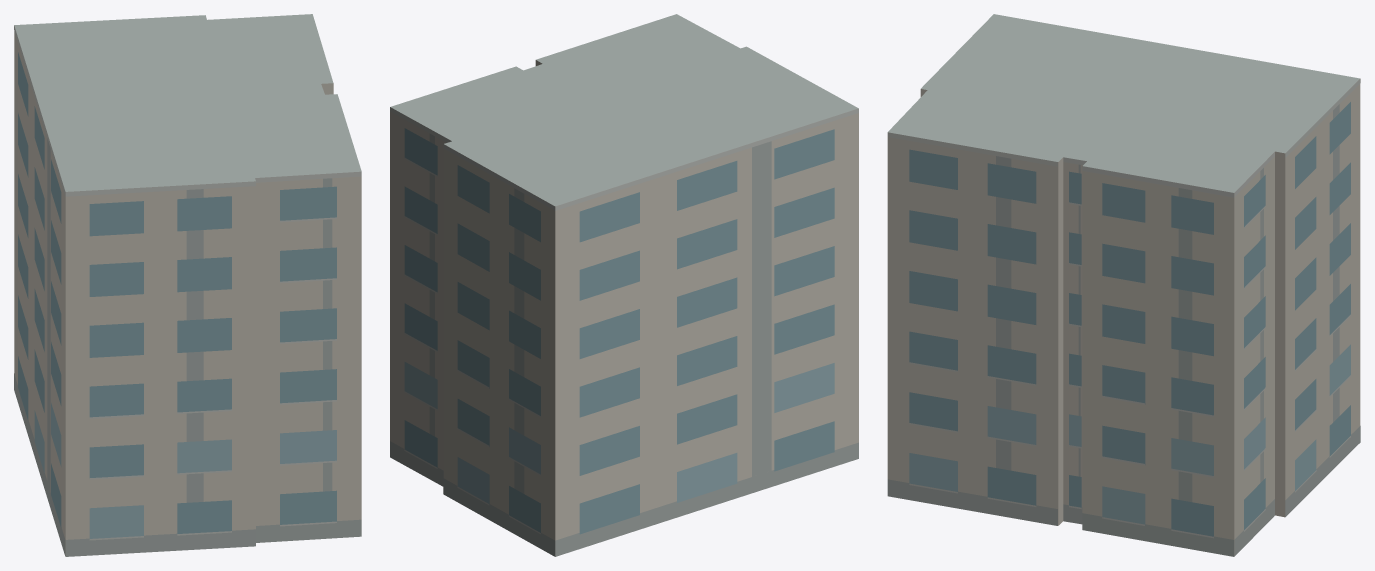
The model's file is survey-upis-32579346.glb.
The picture shows the model from 3 angles, left to right: view 1: azimuth 30°, elevation 25°; view 2: azimuth 150°, elevation 25°; view 3: azimuth 270°, elevation 25°; orthographic projection. The views are drawn at different scales.
Parts seen in each view (by area): view 1: survey-upis-32579346.tmp; view 2: survey-upis-32579346.tmp; view 3: survey-upis-32579346.tmp.
Boxes of the visible parts, x1,y1,x2,y2 form: survey-upis-32579346.tmp: (14,14,361,556); survey-upis-32579346.tmp: (390,14,858,556); survey-upis-32579346.tmp: (887,14,1360,556).
Bounding box in the file's own units: 19.73 × 18.7 × 22.03.
